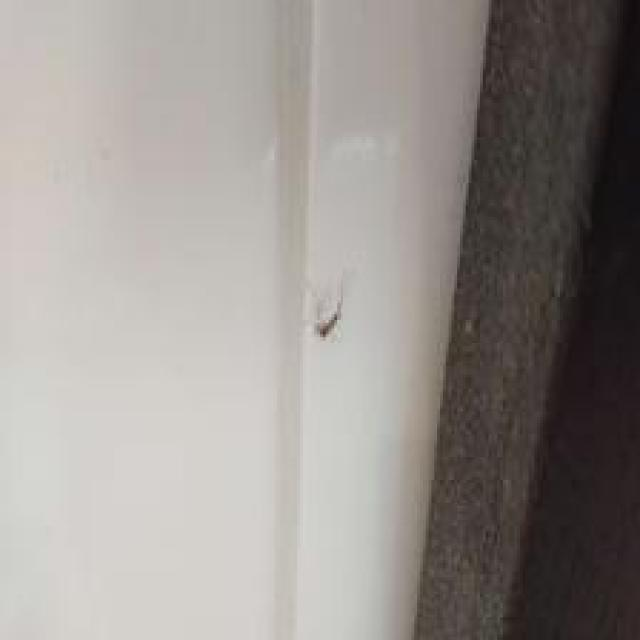Culex: (308, 271, 346, 340)
